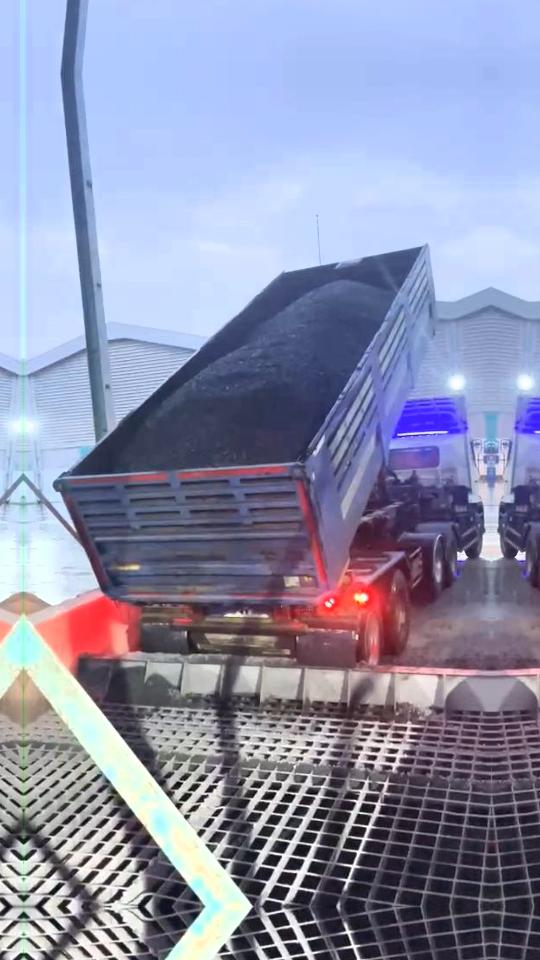gravel: (114, 281, 393, 472)
